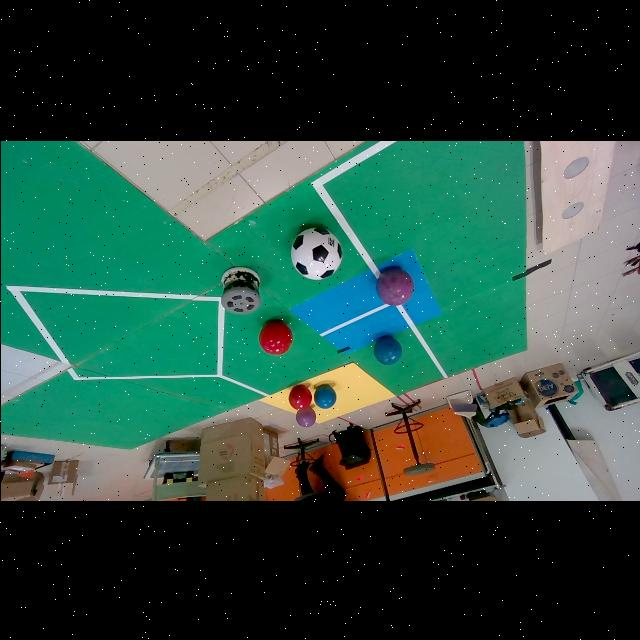B: (373, 334, 402, 364), (314, 384, 336, 408)
P: (376, 267, 413, 305), (294, 406, 315, 426)
R: (258, 319, 292, 352), (288, 383, 311, 409)
